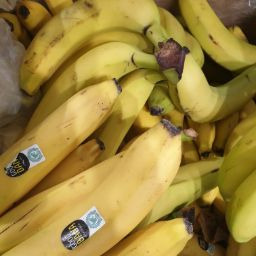Bannana: (11, 83, 199, 256), (6, 5, 256, 131), (8, 5, 221, 136), (164, 45, 256, 256), (6, 183, 253, 252)
